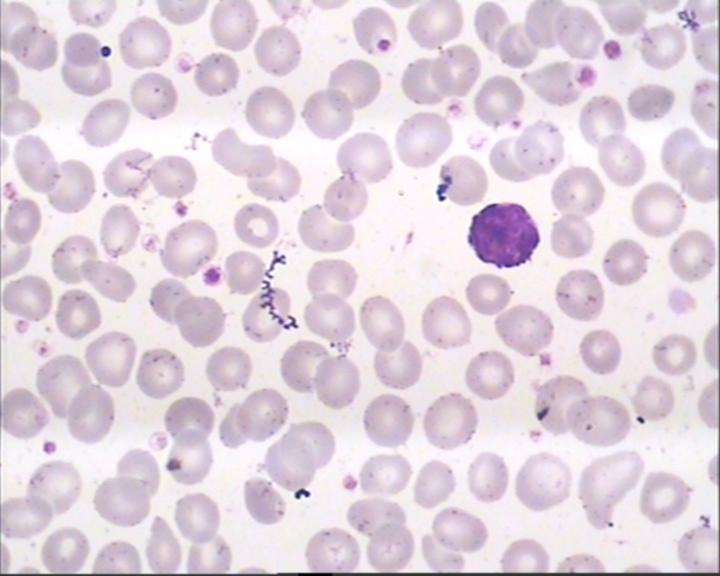baso: (464, 196, 548, 270)
